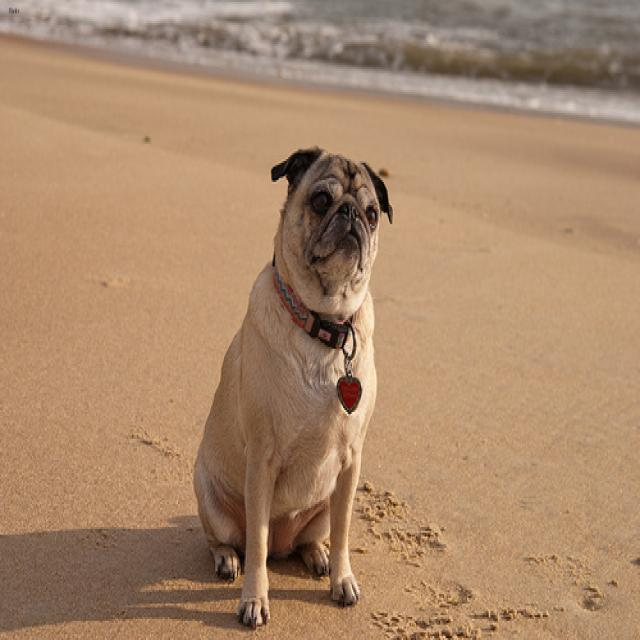dog-pug: (182, 138, 401, 629)
